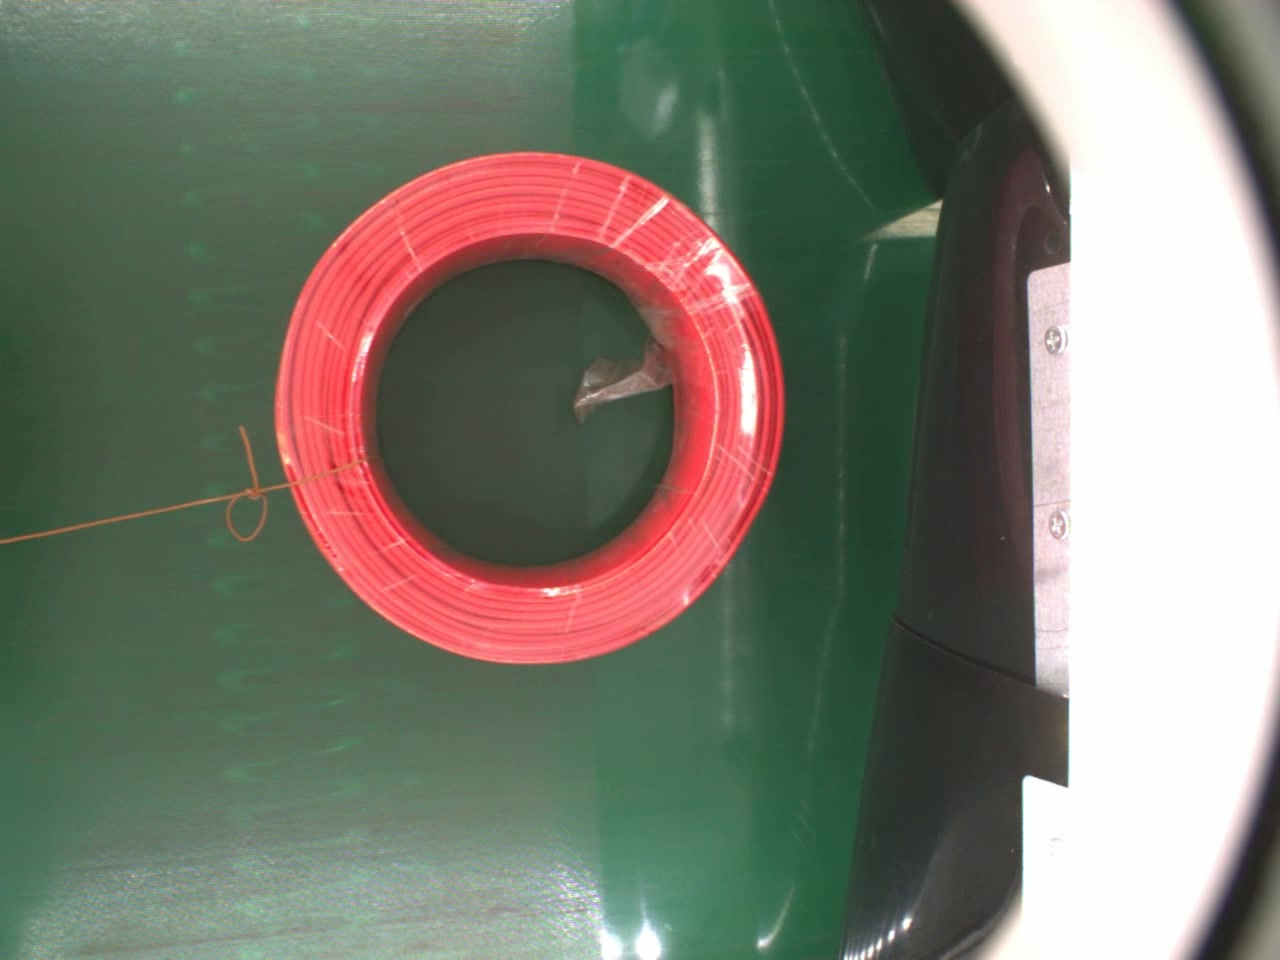red: (270, 145, 789, 671)
